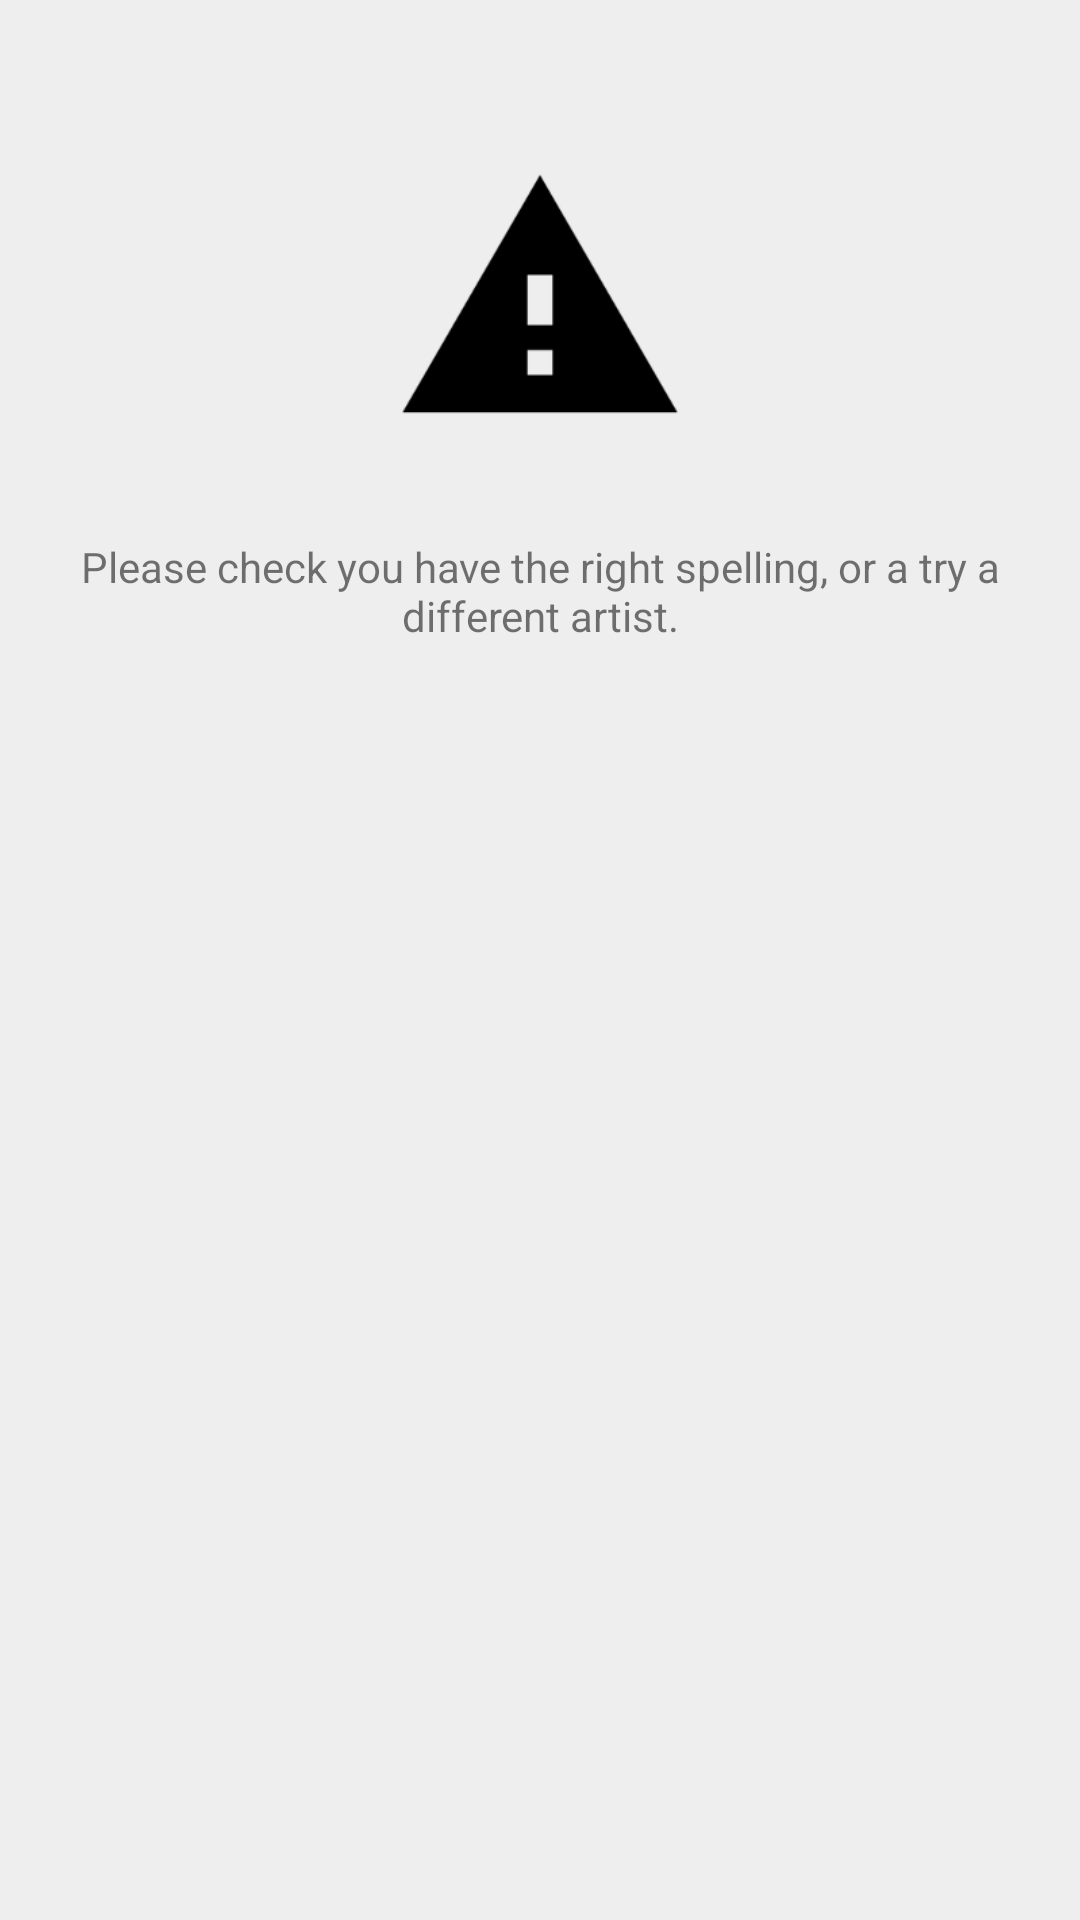

Where to tap for icons on this 1080px x 1920px app screen, as (x,y):
Alert Image: (540,294)
